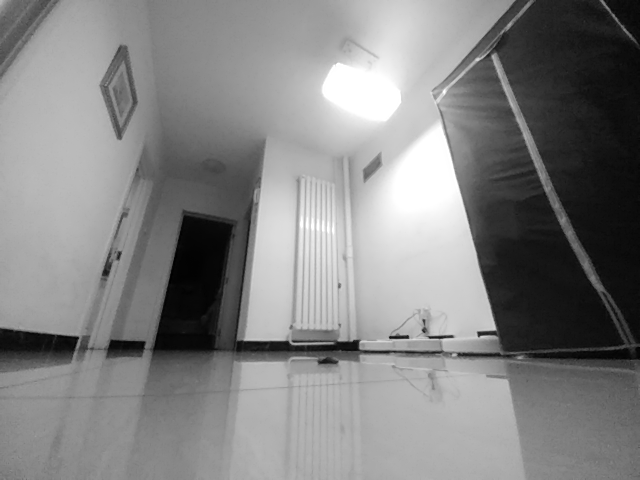pet feces: (314, 354, 338, 364)
